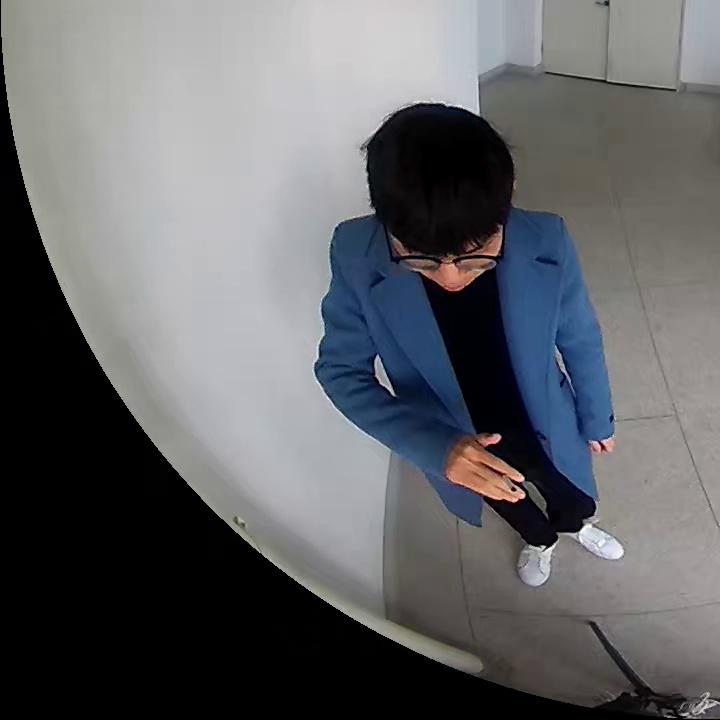handsmoke: (436, 433, 532, 506)
handwithoutsmoke: (585, 432, 618, 461)
mouthwithoutsmoke: (359, 103, 517, 296)
